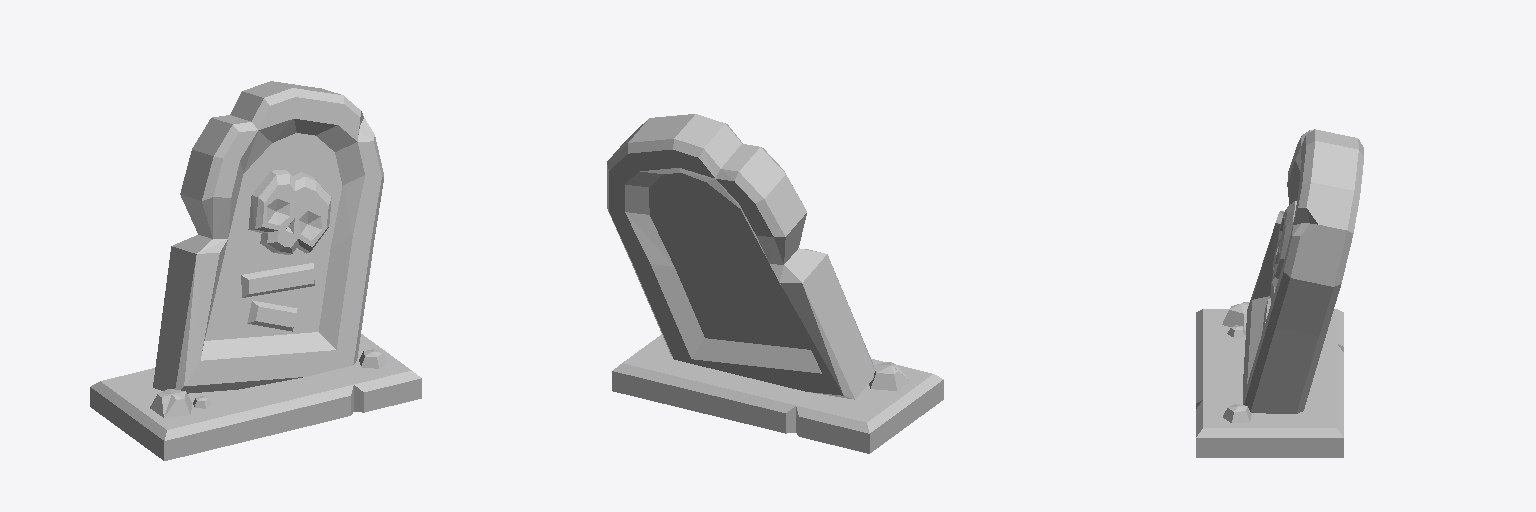
The model's file is grave_A_destroyed.obj.
3 renders of one model, left to right at view 1: azimuth 30°, elevation 25°; view 2: azimuth 150°, elevation 25°; view 3: azimuth 270°, elevation 25°, orthographic.
Parts seen in each view (by area): view 1: grave_A_destroyed_Cube.105; view 2: grave_A_destroyed_Cube.105; view 3: grave_A_destroyed_Cube.105.
Boxes of the visible parts, x1,y1,x2,y2 form: grave_A_destroyed_Cube.105: [90, 81, 421, 460]; grave_A_destroyed_Cube.105: [607, 114, 943, 453]; grave_A_destroyed_Cube.105: [1196, 129, 1363, 457].
Bounding box in the file's own units: 2.08 × 2.11 × 1.14.